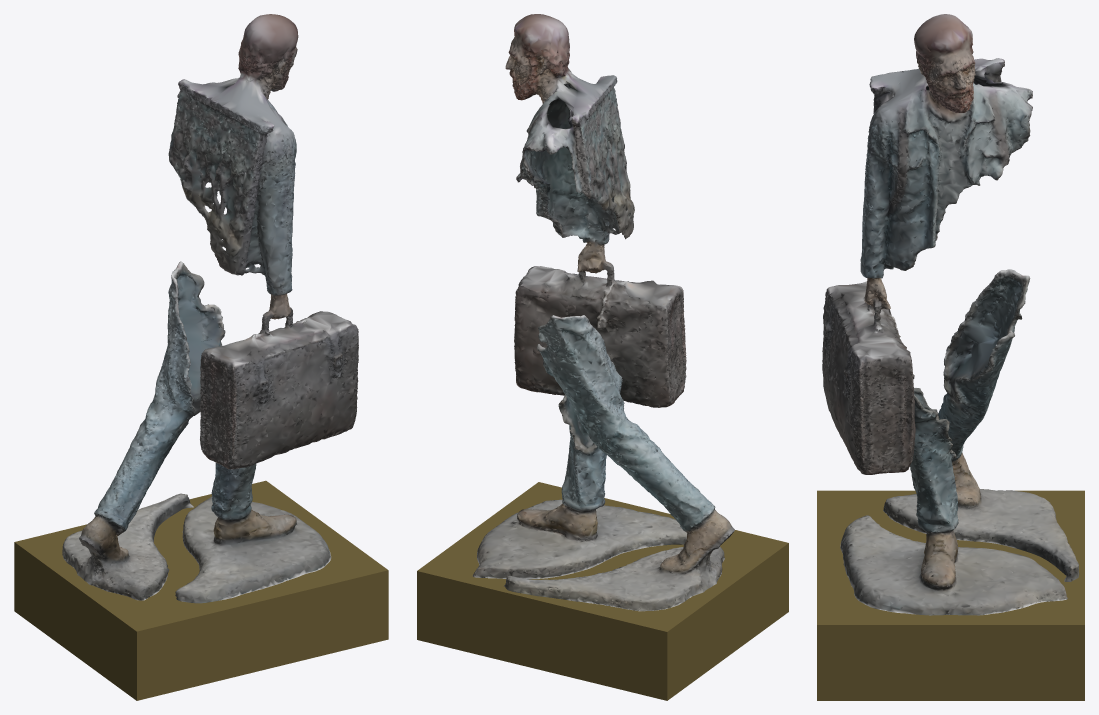
Rendered from preview.glb.
3 views of the same model, side by side, from view 1: azimuth 30°, elevation 25°; view 2: azimuth 150°, elevation 25°; view 3: azimuth 270°, elevation 25° (orthographic). The views are drawn at different scales.
Visible parts, largest first — view 1: Object_2; view 2: Object_2; view 3: Object_2.
Part boxes in pixels (x1=…): Object_2: x1=14, y1=14, x2=388, y2=700; Object_2: x1=417, y1=14, x2=788, y2=700; Object_2: x1=817, y1=14, x2=1084, y2=700.
Bounding box in the file's own units: 190 × 428 × 160.
